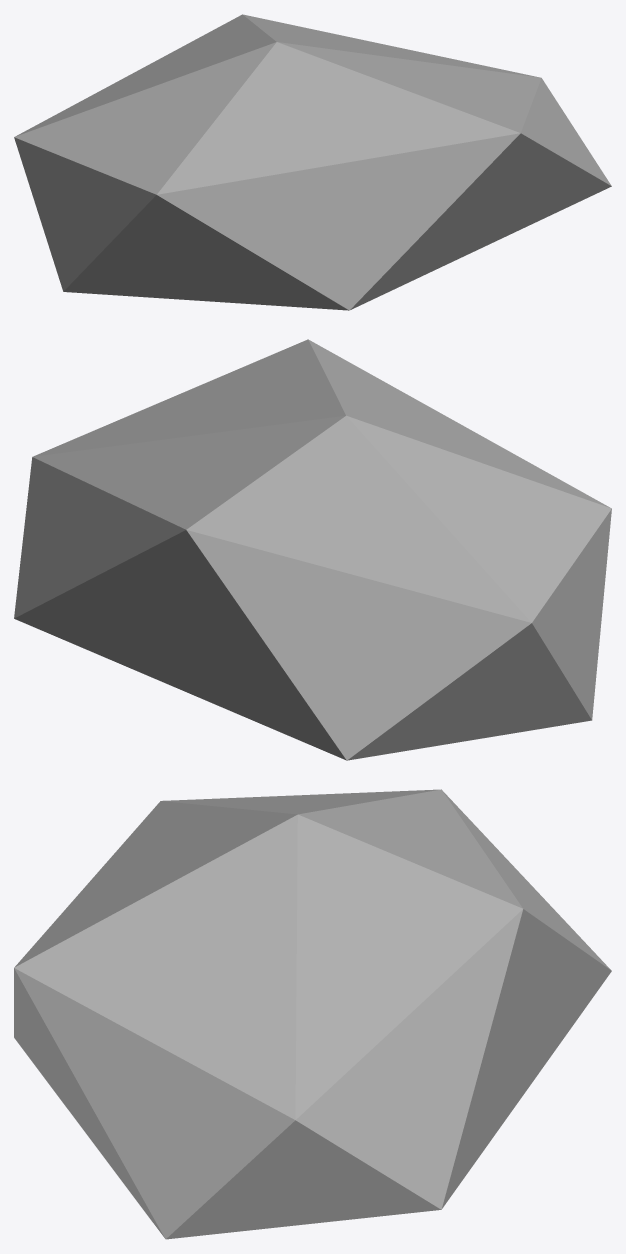
The model's file is rock1.fbx.
The picture shows the model from 3 angles, top to bottom: view 1: azimuth 30°, elevation 25°; view 2: azimuth 150°, elevation 25°; view 3: azimuth 270°, elevation 25°; orthographic projection. The views are drawn at different scales.
Visible parts, largest first — view 1: Icosphere.009; view 2: Icosphere.009; view 3: Icosphere.009.
Part boxes in pixels (x1,y1,x2,y2): Icosphere.009: (14,14,611,310); Icosphere.009: (14,339,611,760); Icosphere.009: (14,789,611,1239).
Bounding box in the file's own units: 60.88 × 23.66 × 47.52.
